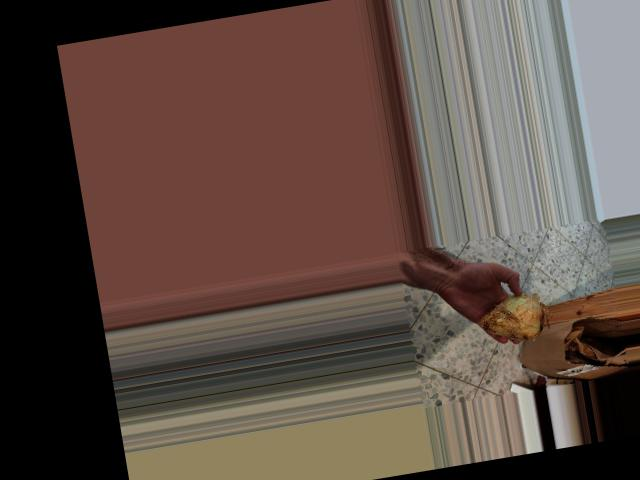onion: (475, 287, 550, 348)
